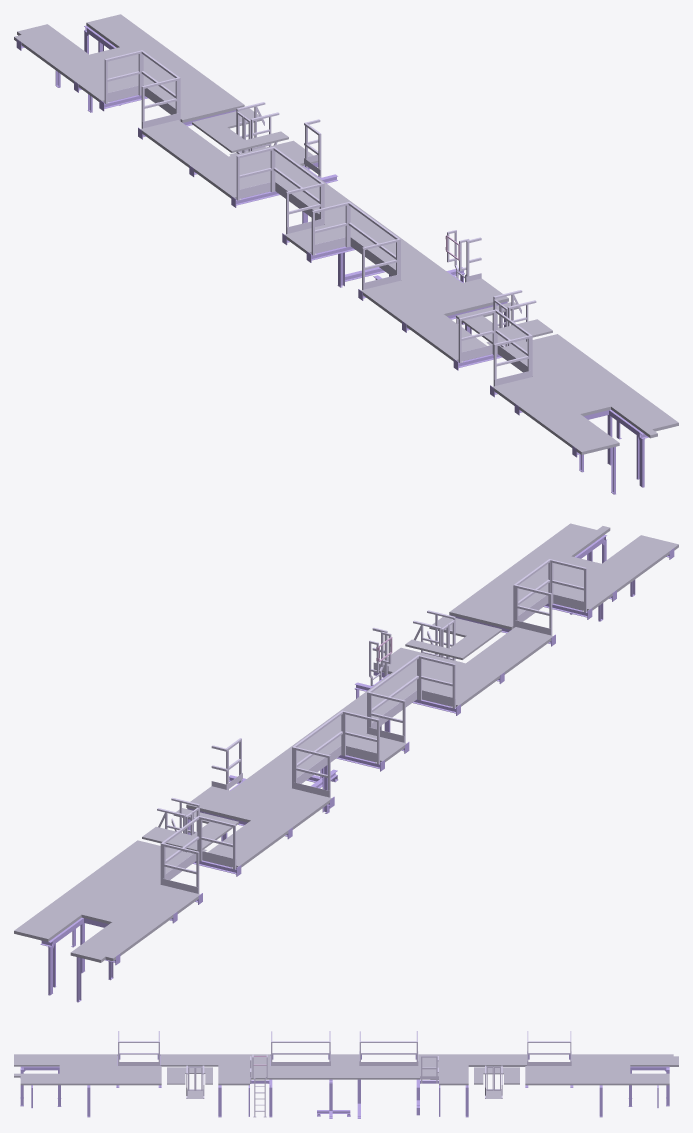
Rendered from HS-CENTRAL-PIT-STRUCTURE-cut2.glb.
The picture shows the model from 3 angles, top to bottom: view 1: azimuth 30°, elevation 25°; view 2: azimuth 150°, elevation 25°; view 3: azimuth 270°, elevation 25°; orthographic projection. The views are drawn at different scales.
Parts seen in each view (by area): view 1: _000001E33FE7E180_IndexedFaceSet, _000001E33418E1F0_IndexedFaceSet, _000001E33418E490_17_IndexedFaceSet; view 2: _000001E33FE7E180_IndexedFaceSet, _000001E33418E1F0_IndexedFaceSet, _000001E33418E490_17_IndexedFaceSet; view 3: _000001E33FE7E180_IndexedFaceSet, _000001E33418E1F0_IndexedFaceSet, _000001E33418E490_17_IndexedFaceSet.
Boxes of the visible parts, bbox=[...] form: _000001E33FE7E180_IndexedFaceSet: bbox=[14, 14, 678, 454]; _000001E33418E1F0_IndexedFaceSet: bbox=[104, 50, 536, 386]; _000001E33418E490_17_IndexedFaceSet: bbox=[16, 25, 648, 494]; _000001E33FE7E180_IndexedFaceSet: bbox=[14, 523, 678, 962]; _000001E33418E1F0_IndexedFaceSet: bbox=[157, 559, 586, 893]; _000001E33418E490_17_IndexedFaceSet: bbox=[40, 535, 674, 1002]; _000001E33FE7E180_IndexedFaceSet: bbox=[14, 1054, 678, 1098]; _000001E33418E1F0_IndexedFaceSet: bbox=[118, 1031, 571, 1117]; _000001E33418E490_17_IndexedFaceSet: bbox=[20, 1054, 669, 1118].
Size of the model in its own units: 2.7 by 2.67 by 25.91.
